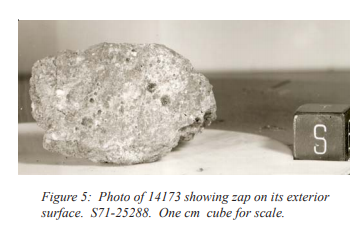Breccia: (13, 45, 261, 150)
